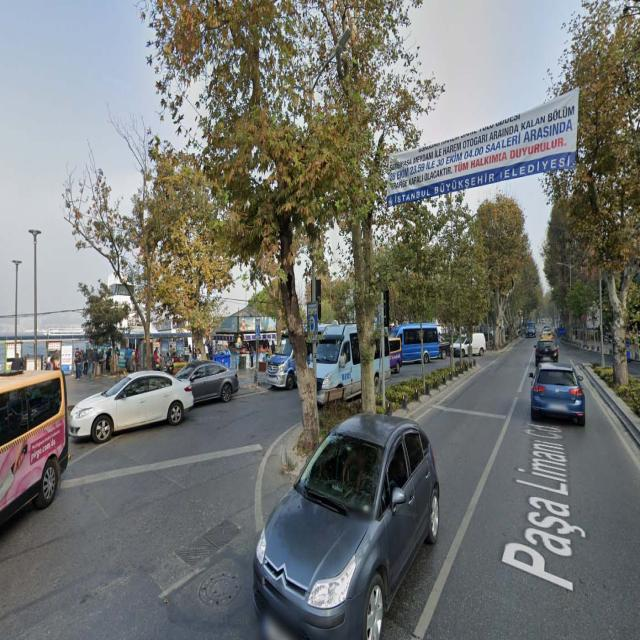durak: (307, 315, 317, 334), (254, 324, 260, 336)
